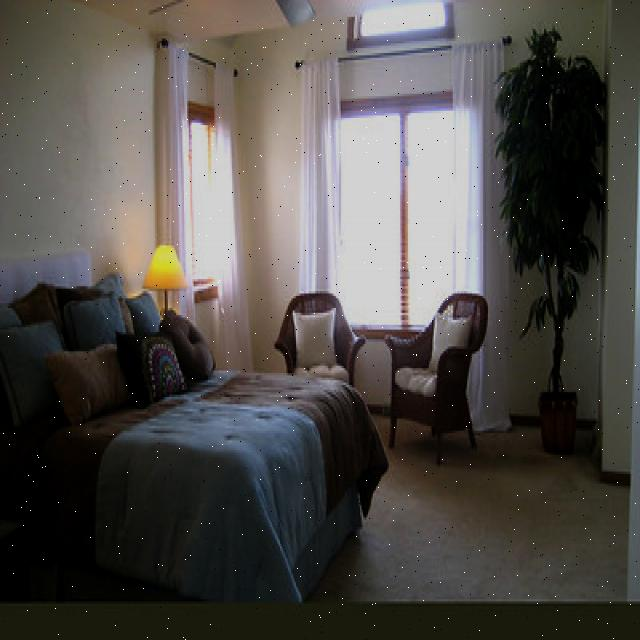bed: (7, 262, 362, 598)
